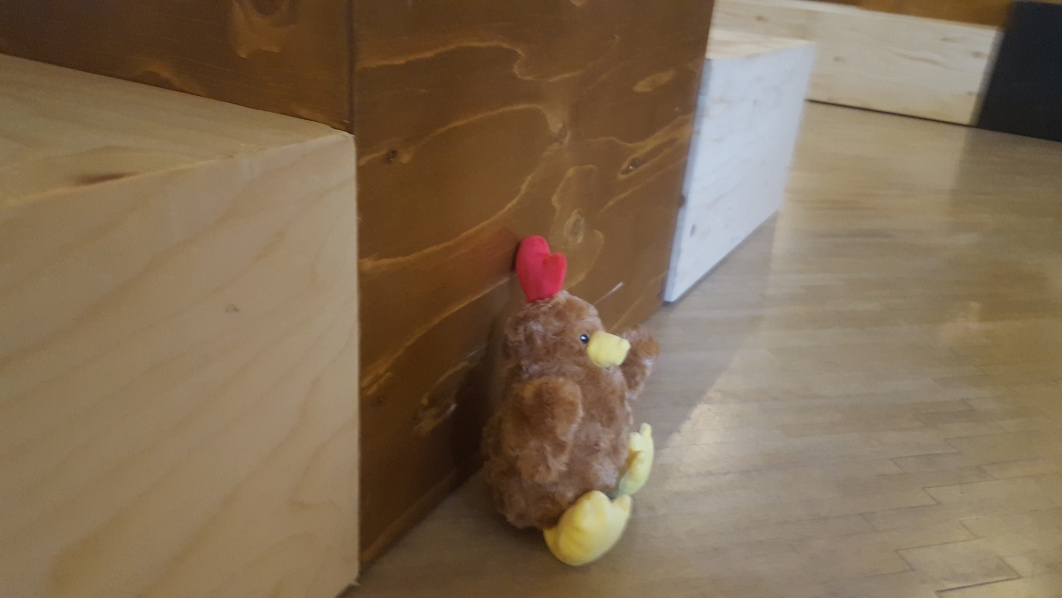chicken: (481, 237, 659, 572)
